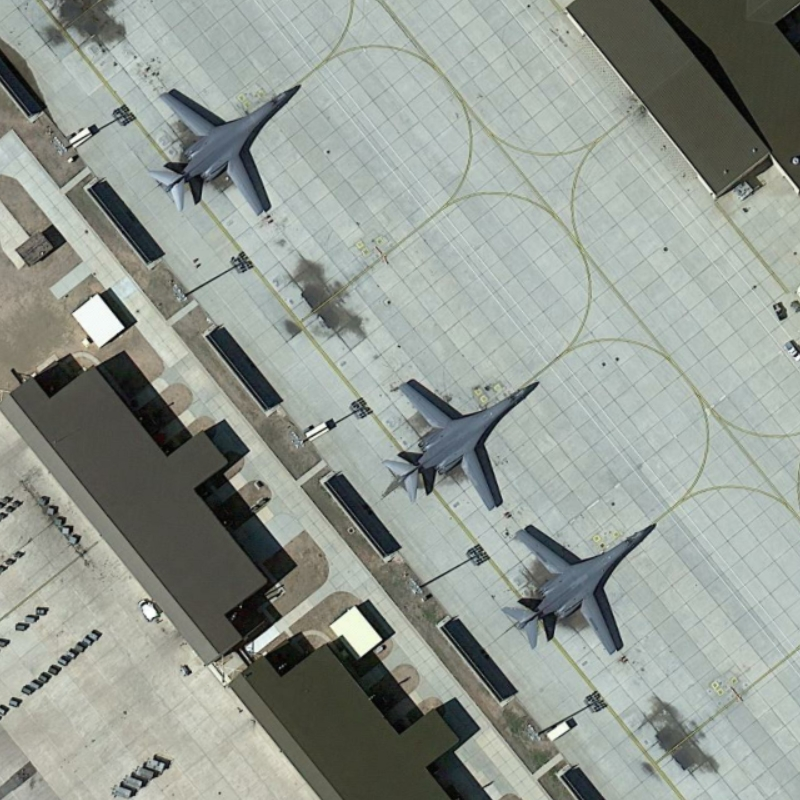A10: (381, 361, 543, 512), (496, 516, 665, 660), (154, 75, 304, 220)
